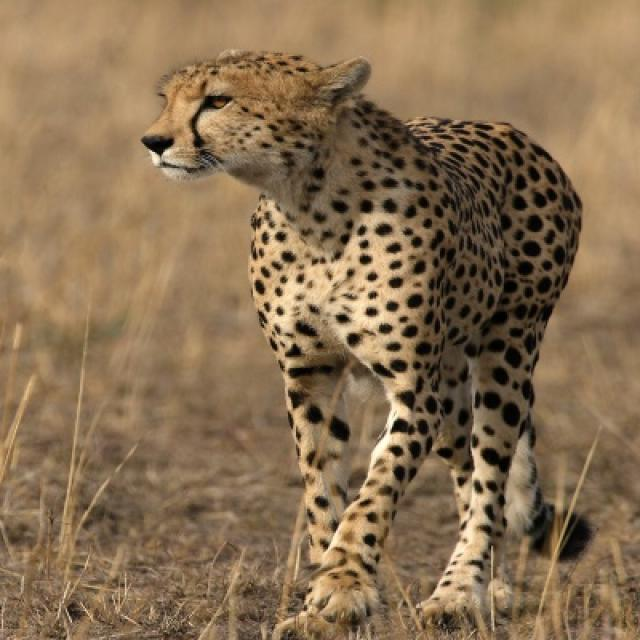Cheetah: (133, 44, 589, 633)
